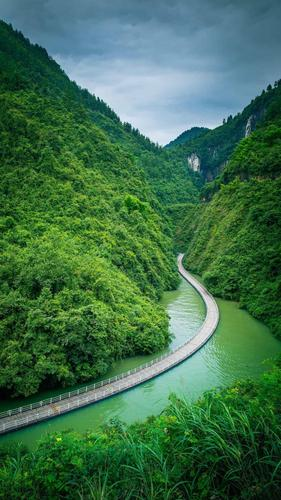mountain: (11, 35, 189, 359)
